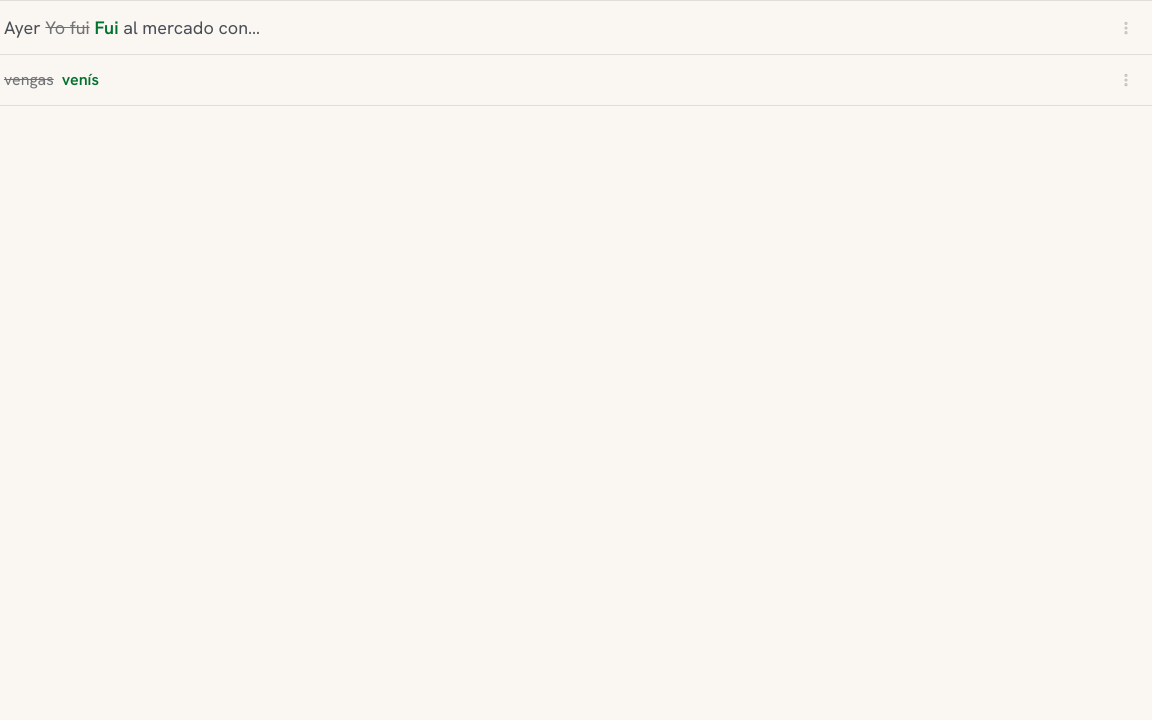
it: WriteList — review sheet › navigates to the next item with the Next button
Click the button "Ayer Yo fui Fui al mercado con…": coordinates (25, 28) x1=0 y1=1 x2=1151 y2=54
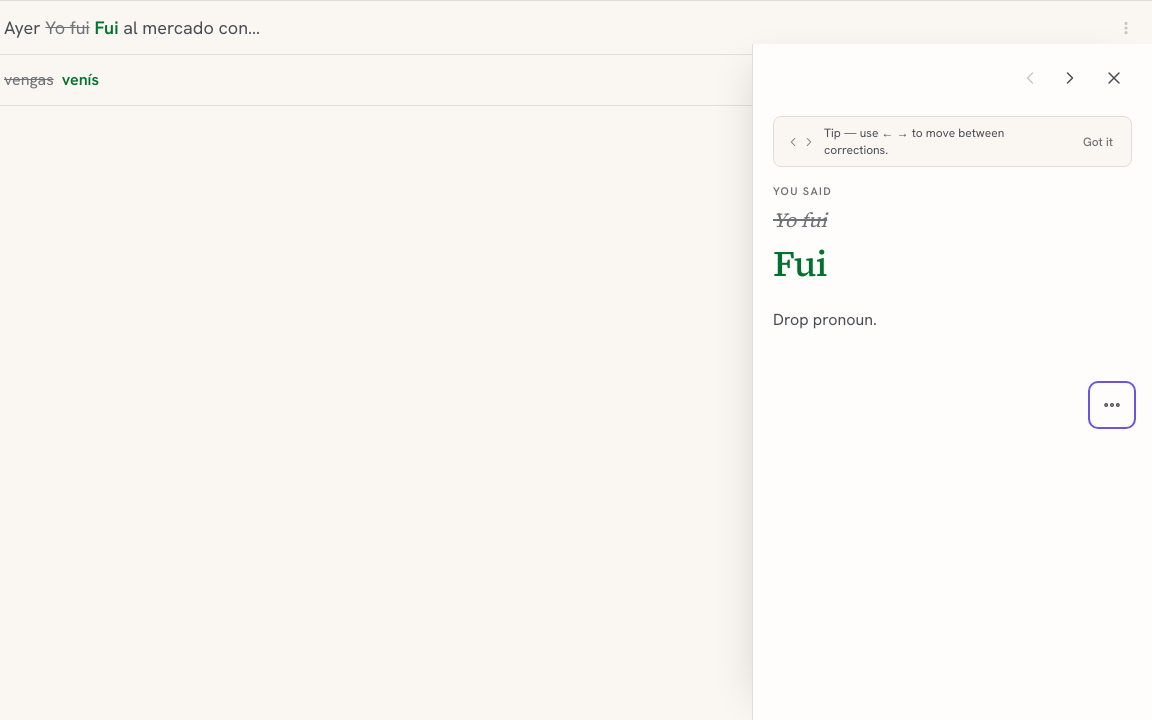
Click the button named "next correction": coordinates (1070, 78) x1=1052 y1=60 x2=1088 y2=96
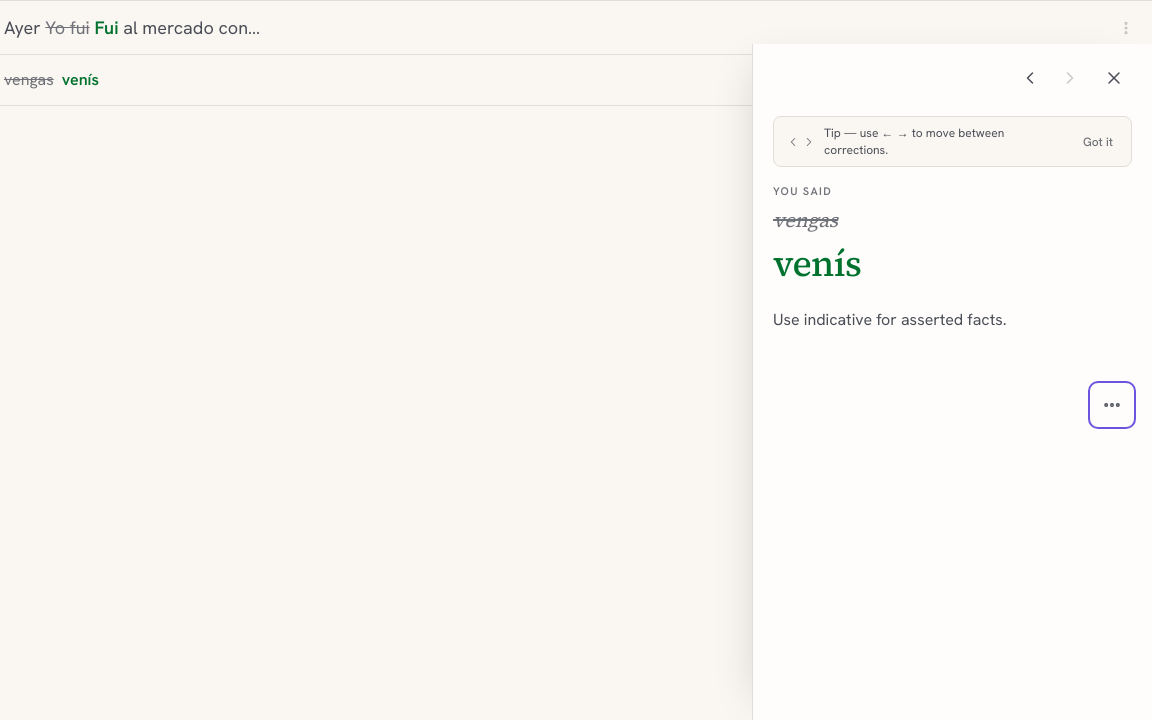
Now the text "Use indicative for asserted facts." is shown, box x1=773 y1=309 x2=1007 y2=330
